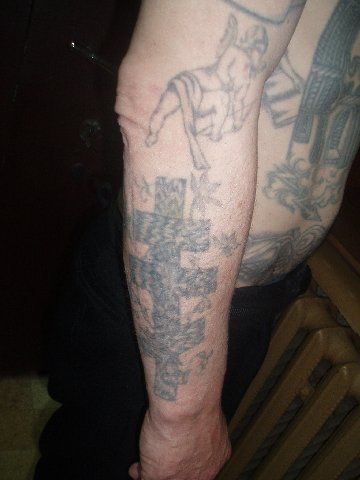tatu1_angel: (140, 11, 271, 175)
tatu9_krest: (122, 175, 222, 403)
